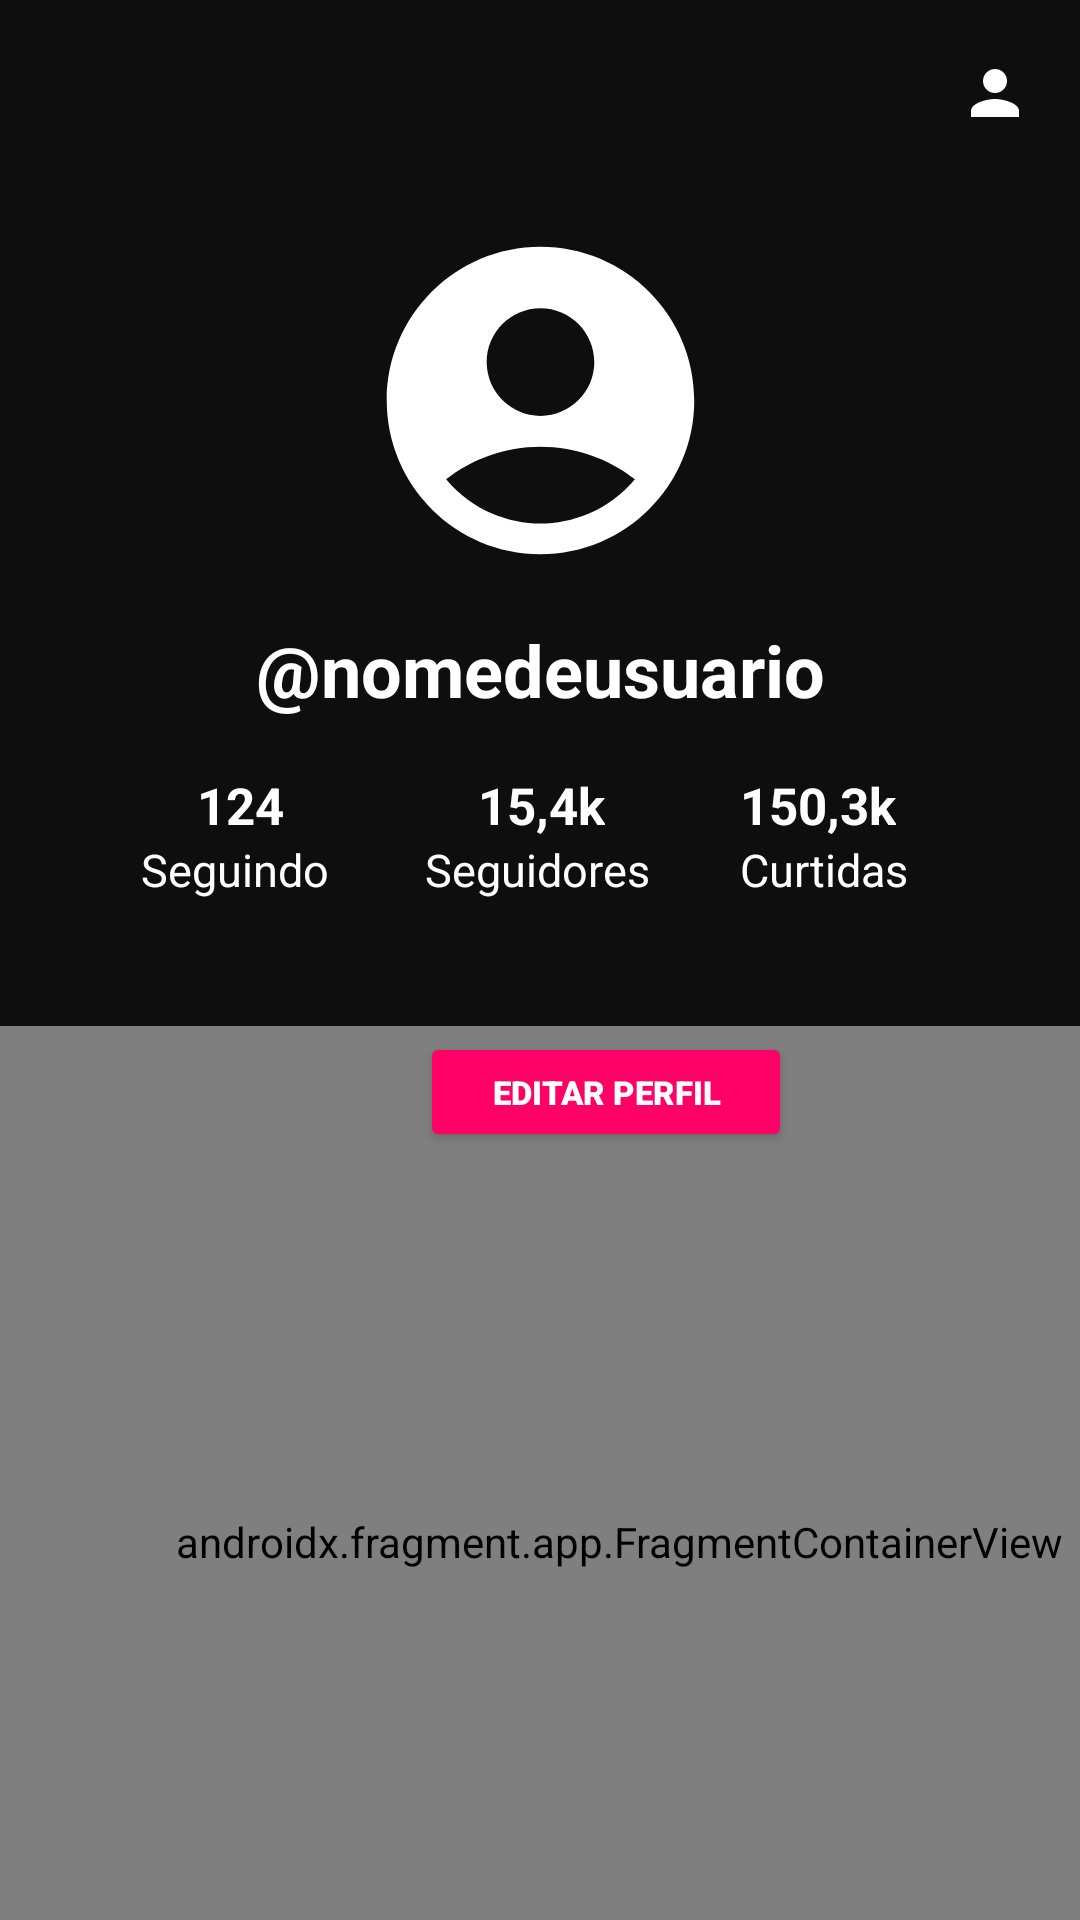

Where icons sit on this 1080×1920 app screen, as (x1, y1, x2, y2):
person: (971, 69, 1019, 117)
profile: (386, 246, 695, 555)
